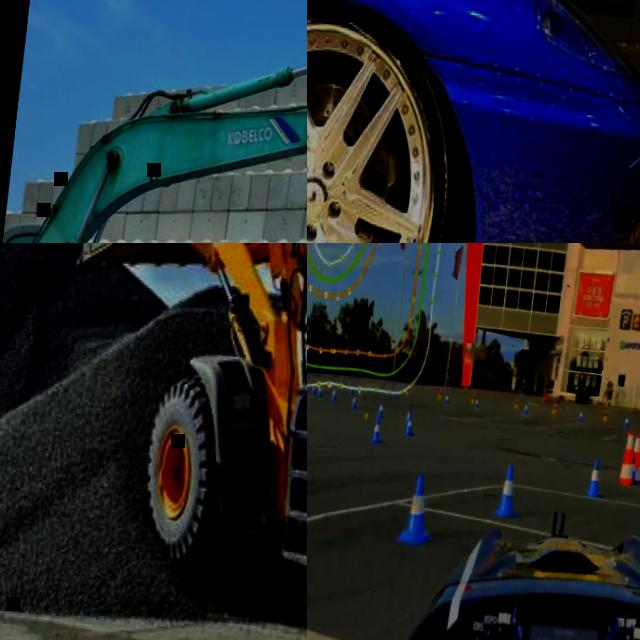Safety Cone: (395, 470, 438, 546), (492, 461, 521, 520), (618, 432, 638, 488), (584, 458, 604, 501), (629, 433, 640, 487), (627, 451, 640, 486), (371, 416, 385, 442), (405, 415, 416, 438), (403, 405, 414, 428), (377, 399, 386, 420), (578, 409, 586, 424), (331, 388, 338, 401), (310, 383, 317, 396), (352, 395, 358, 409), (317, 385, 324, 397), (523, 403, 529, 416), (603, 408, 609, 421), (624, 417, 630, 429), (552, 403, 558, 415), (513, 400, 519, 412), (470, 393, 476, 404), (437, 389, 442, 402), (474, 396, 479, 408), (445, 393, 450, 404)
vehicle: (28, 243, 307, 640), (307, 0, 640, 243), (0, 6, 307, 243), (307, 472, 640, 640)
